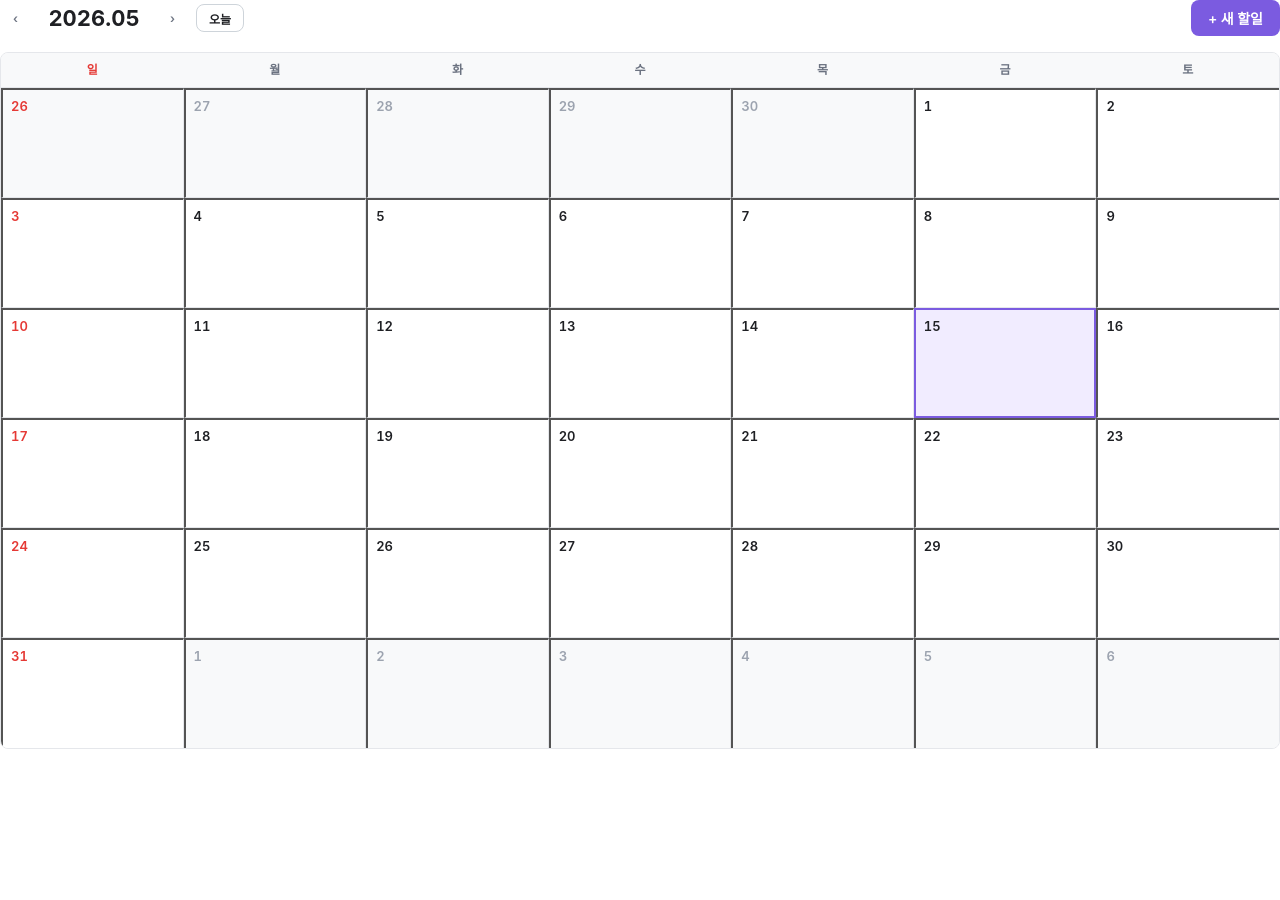
HomePage (캘린더 뷰) › 캘린더 셀 클릭 → 해당 일자가 종료예정일에 채워진 폼
The image size is (1280, 900).
Step 1. Click the cell named "2026-05-20" → (640, 473), box [549,418,731,528]
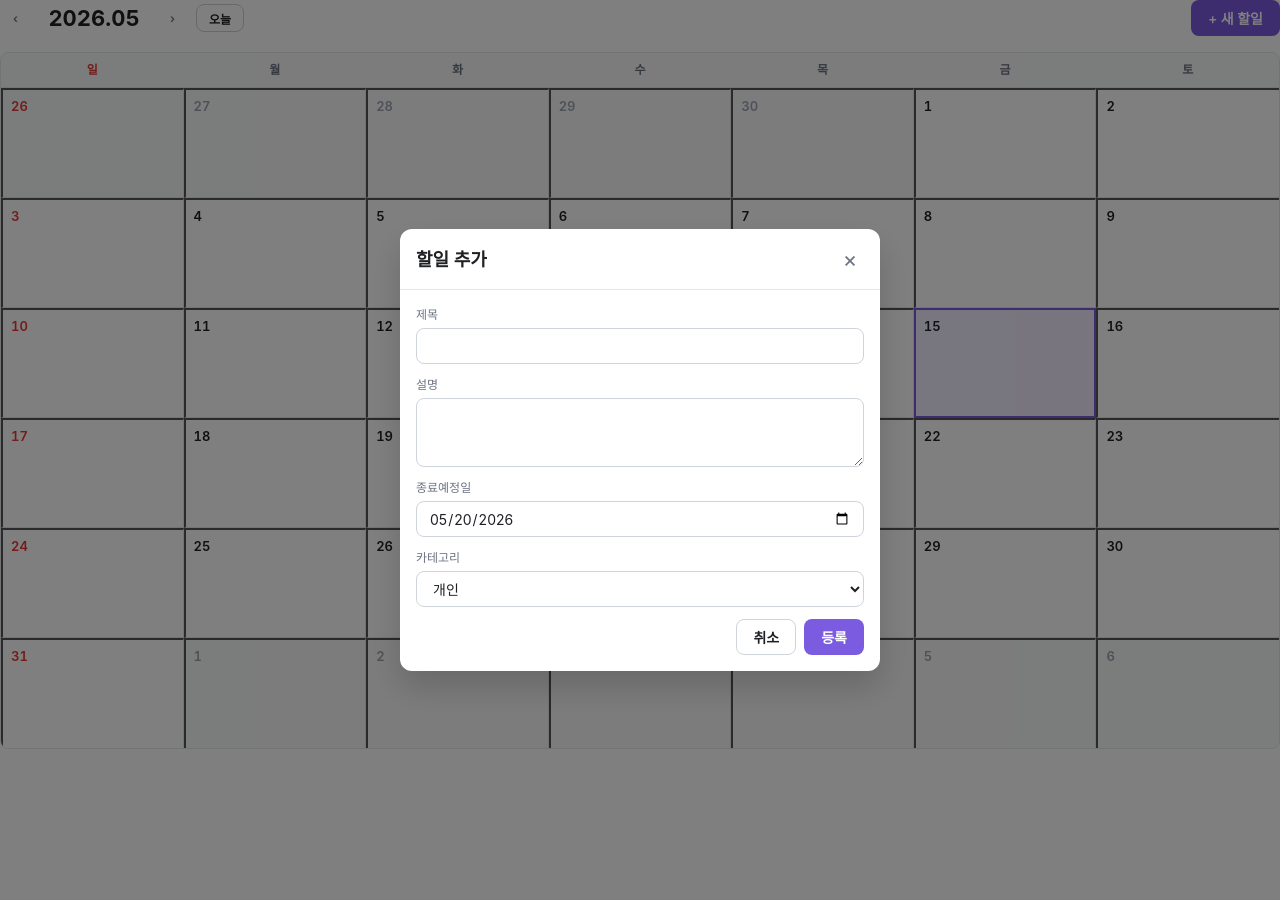
Expected: the date field labelled "종료예정일" holds "2026-05-20", [416,501,864,537]
